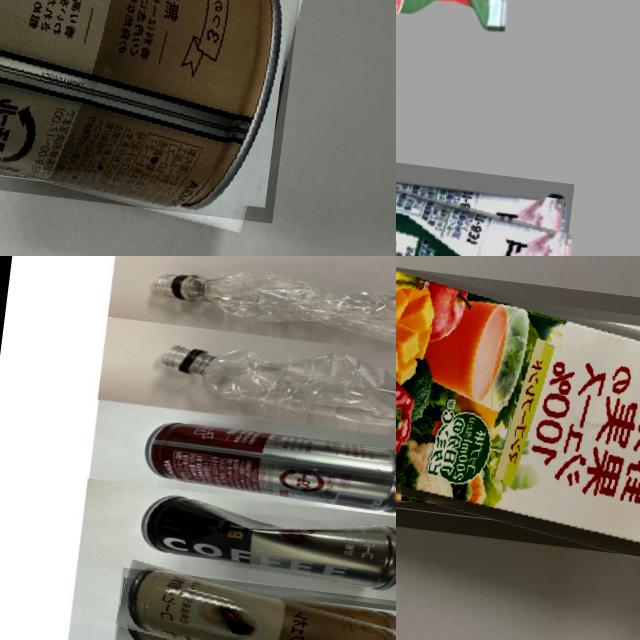Aluminium Foil: (396, 256, 640, 571), (396, 121, 574, 256)
Can: (0, 0, 310, 222), (128, 493, 396, 590), (137, 416, 396, 511), (112, 566, 396, 640)
Transparent Plastic Bottle: (151, 331, 396, 433), (144, 256, 396, 349)
